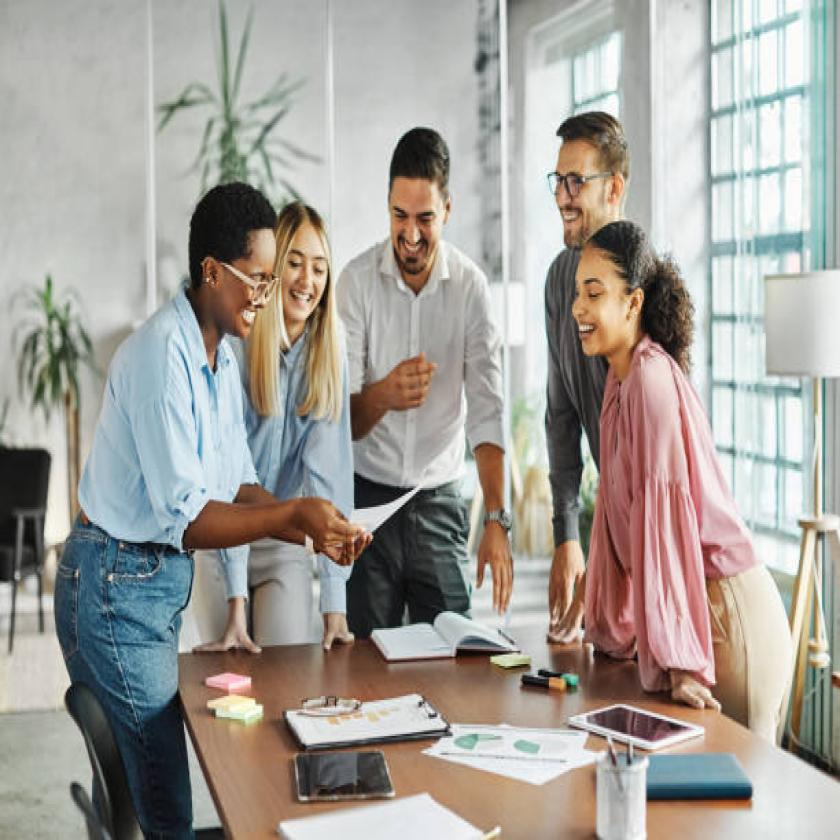Sin_casco: (187, 157, 280, 352), (367, 95, 461, 287), (533, 82, 636, 252), (576, 224, 686, 378), (268, 196, 339, 331)
